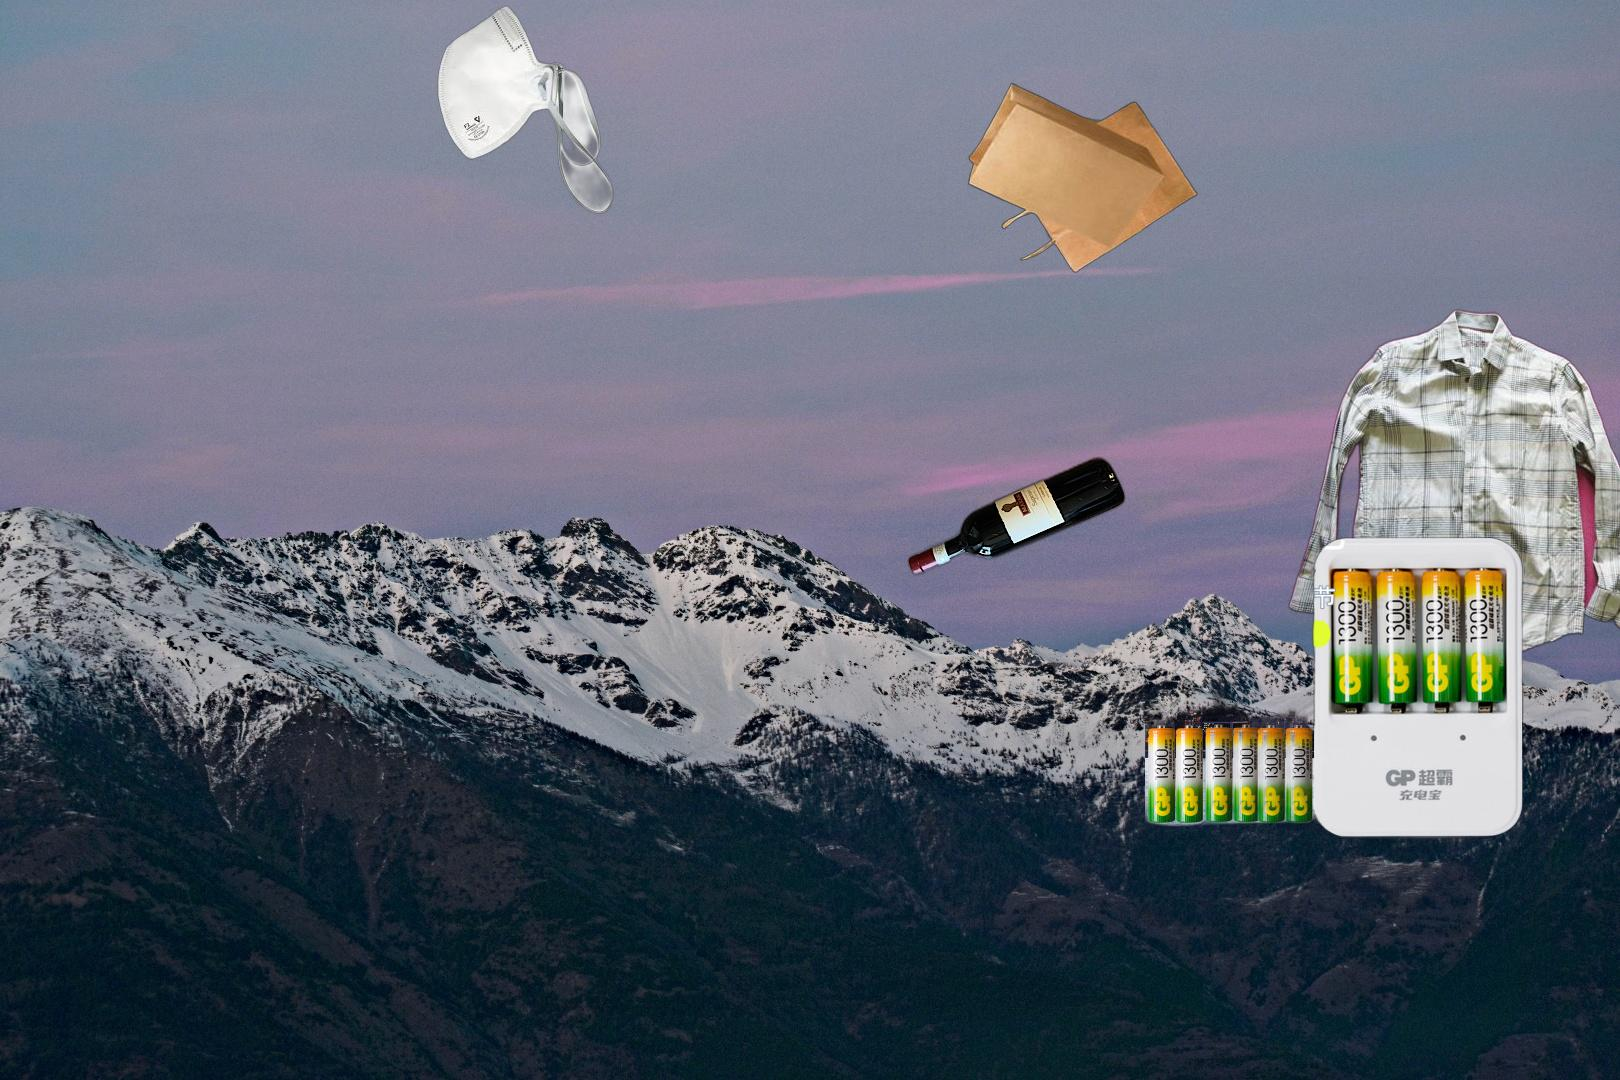battery: (1145, 534, 1527, 843)
clothes: (1286, 305, 1620, 665)
glass: (903, 451, 1129, 714)
paper-bag: (965, 80, 1199, 275)
trash: (435, 2, 638, 222)
